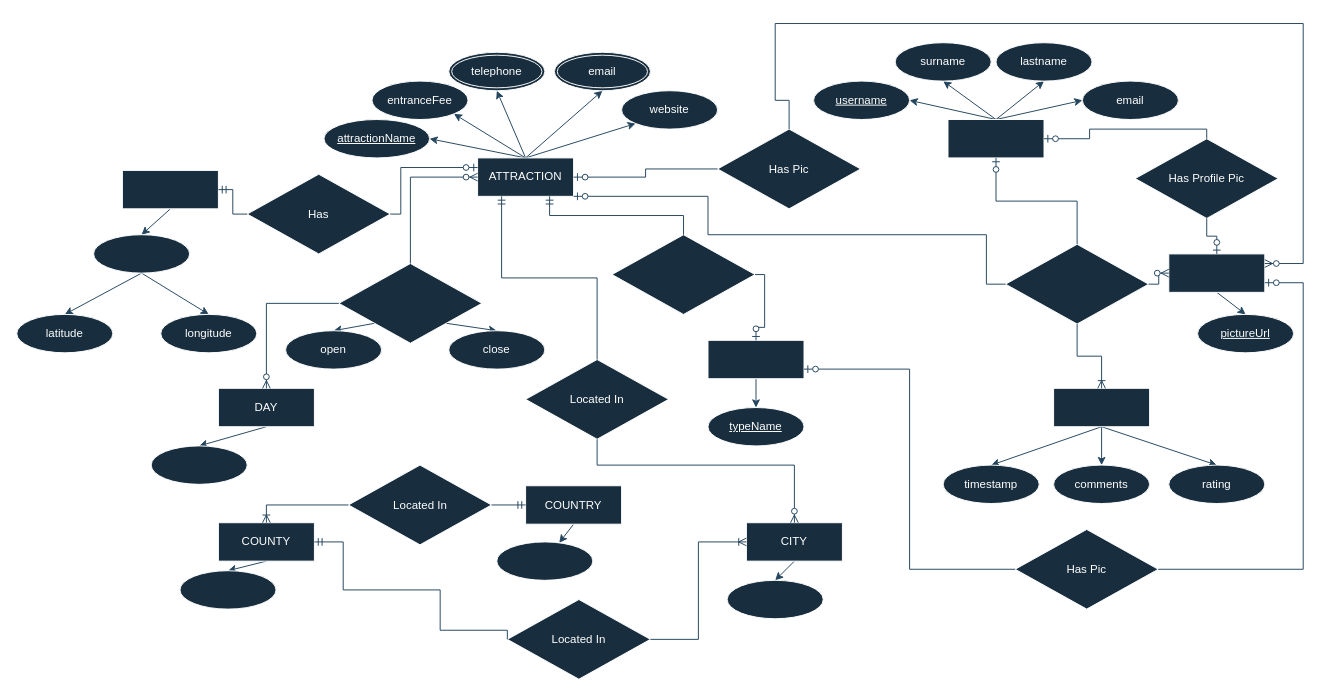
This 1328x696 diagram has some shape labels left out. The shapes that lost their labels are listed below. From the top down, each one's box as (x1, y1, x2, y2) in pixels, then its label:
(947, 119, 1044, 158): USER
(121, 169, 218, 209): MAP
(93, 234, 190, 273): COORDINATES
(1168, 253, 1265, 292): PICTURE
(611, 234, 755, 314): Is Type Of
(1005, 243, 1149, 324): Consists Of
(338, 263, 482, 343): Opperates
(707, 339, 804, 379): ATTRACTION TYPE
(1053, 387, 1150, 427): REVIEW
(150, 445, 247, 484): dayName
(496, 541, 593, 580): countryName
(179, 570, 276, 609): countyName
(726, 579, 823, 619): cityName
